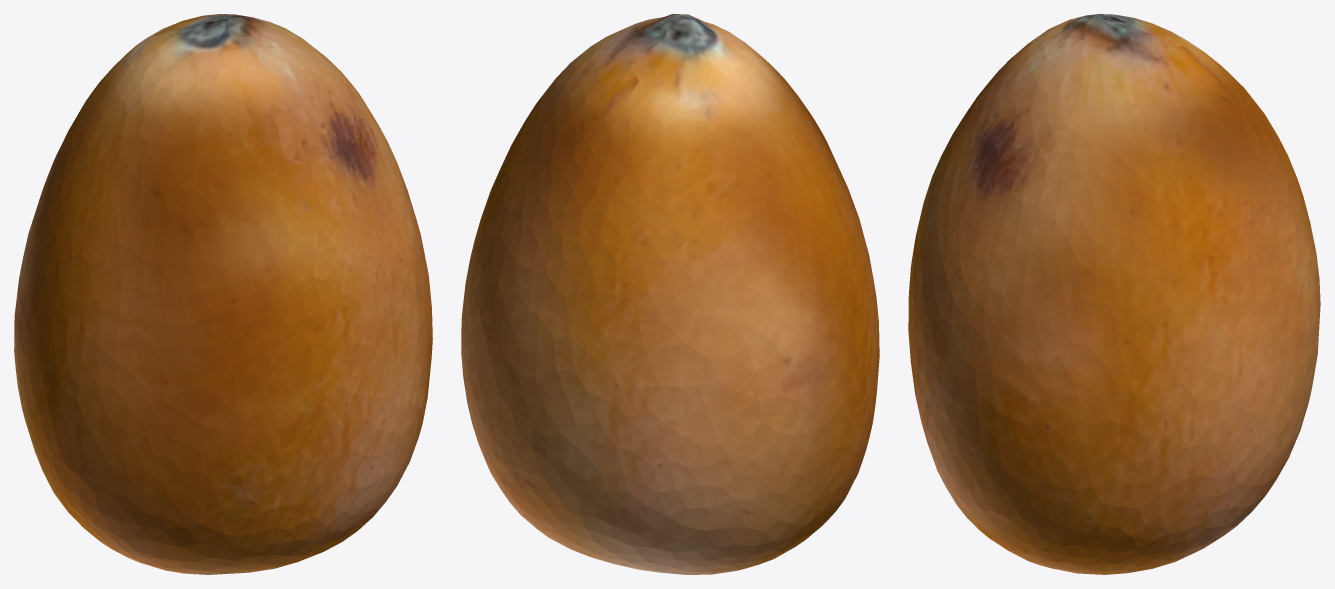
The model's file is loquat-transformed.glb.
3 views of the same model, side by side, from view 1: azimuth 30°, elevation 25°; view 2: azimuth 150°, elevation 25°; view 3: azimuth 270°, elevation 25° (orthographic).
Parts seen in each view (by area): view 1: loquatFruit; view 2: loquatFruit; view 3: loquatFruit.
Part boxes in pixels (box(x1,y1,x2,y2)): loquatFruit: box(14, 14, 432, 574); loquatFruit: box(461, 14, 879, 574); loquatFruit: box(908, 14, 1320, 574).
Bounding box in the file's own units: 0.4677 × 0.6414 × 0.4589.
1 material, 1 textured.
